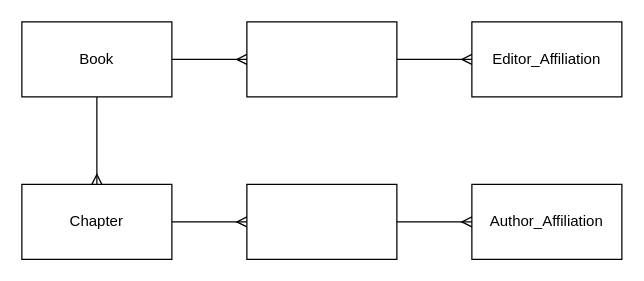
Image size: 644x281. Some labels were removed from this diagram. Here are the shapes that lost their labels. From the top down, the centre of each, then its label:
At (x=321, y=59): "Editor".
At (x=321, y=221): "Author".
